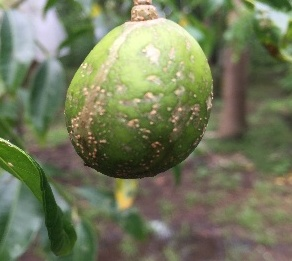Coc: (44, 18, 231, 184)
